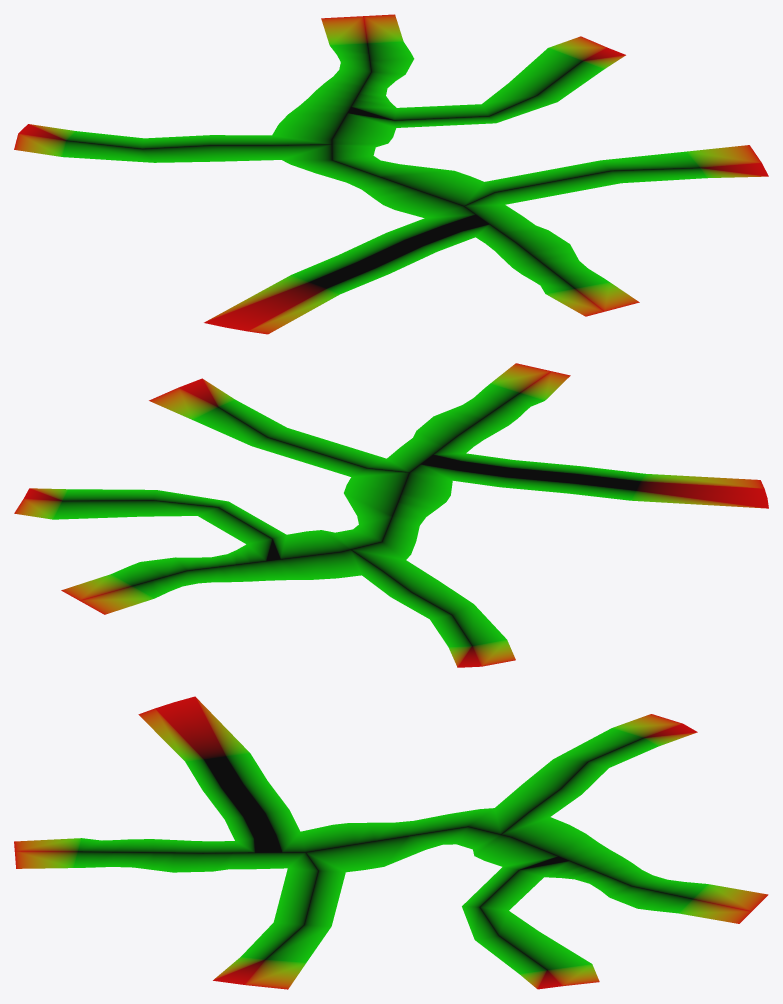
File: SM_River_Agriculture_01.fbx
The picture shows the model from 3 angles, top to bottom: view 1: azimuth 30°, elevation 25°; view 2: azimuth 150°, elevation 25°; view 3: azimuth 270°, elevation 25°; orthographic projection. The views are drawn at different scales.
Visible parts, largest first — view 1: SM_River_Agriculture_01; view 2: SM_River_Agriculture_01; view 3: SM_River_Agriculture_01.
Part boxes in pixels (x1=…): SM_River_Agriculture_01: x1=14, y1=14, x2=768, y2=334; SM_River_Agriculture_01: x1=14, y1=363, x2=768, y2=667; SM_River_Agriculture_01: x1=14, y1=696, x2=768, y2=989.
Bounding box in the file's own units: 20.25 × 8.11e-06 × 22.04.
